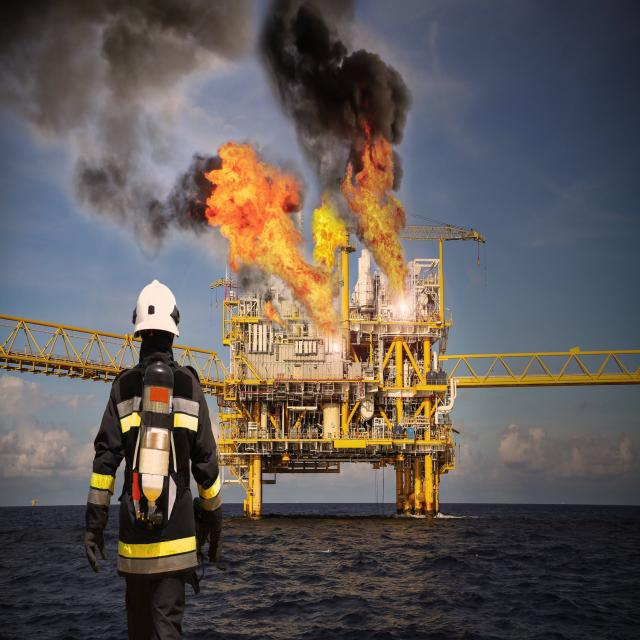fire: (219, 115, 441, 321)
